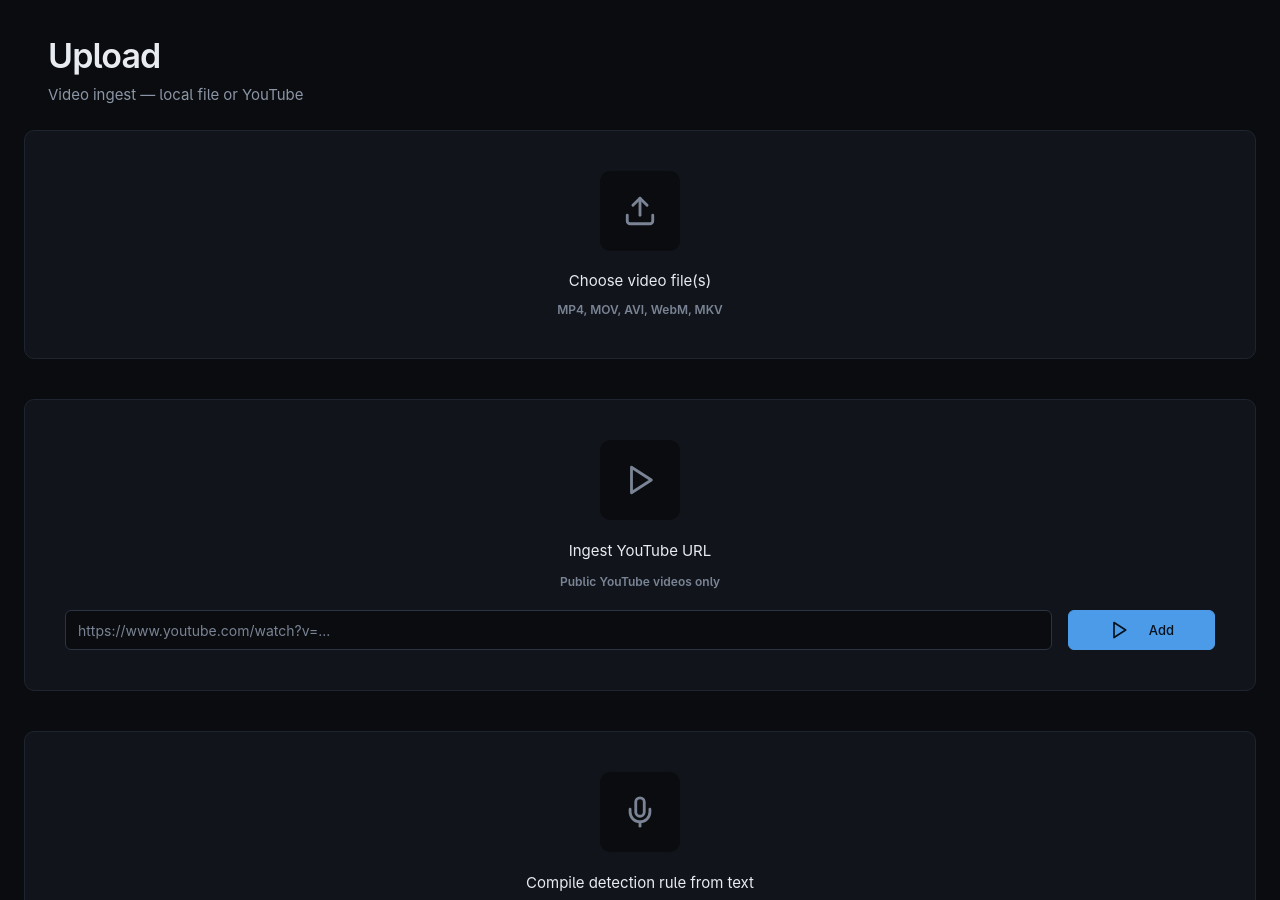
it: the upload page › hands a refusal on as the word the operator can act on
Type "https://www.youtube.com/watch?v=abc" into the field with placeholder "https://www.youtube.com/watch?v=..." at (558, 630), box x1=65 y1=610 x2=1052 y2=650
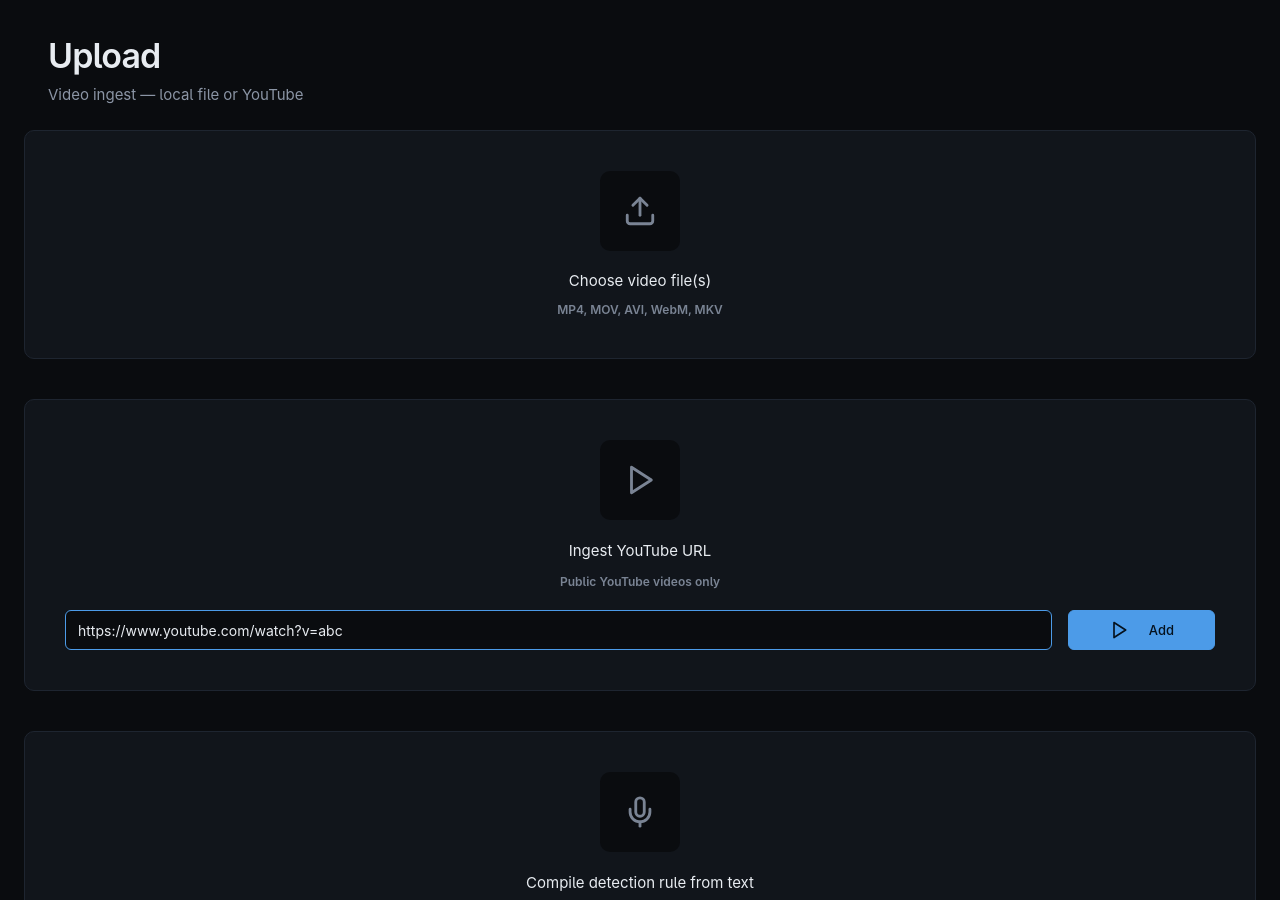
Click the button "Add" at (1141, 630), box x1=1068 y1=610 x2=1215 y2=650
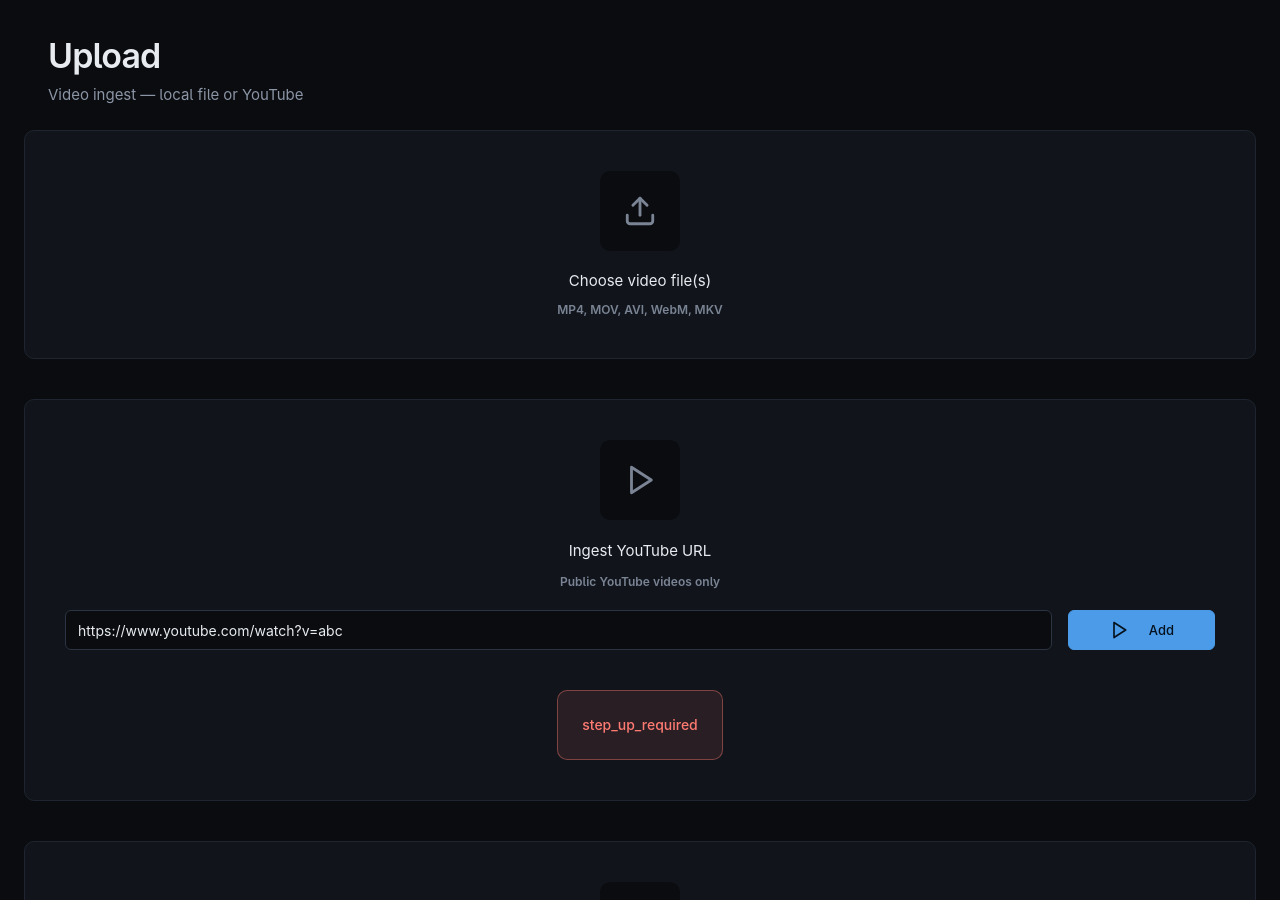
Expected: the text "step_up_required" is shown, x1=557 y1=690 x2=723 y2=760
